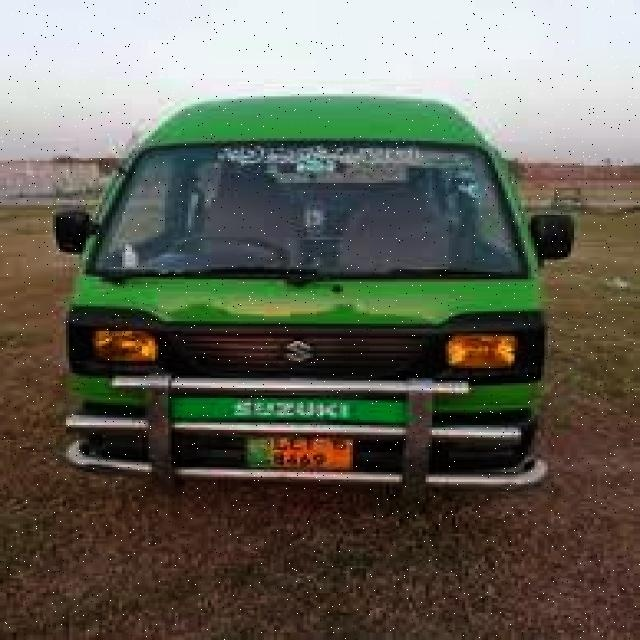Van: (56, 86, 571, 502)
